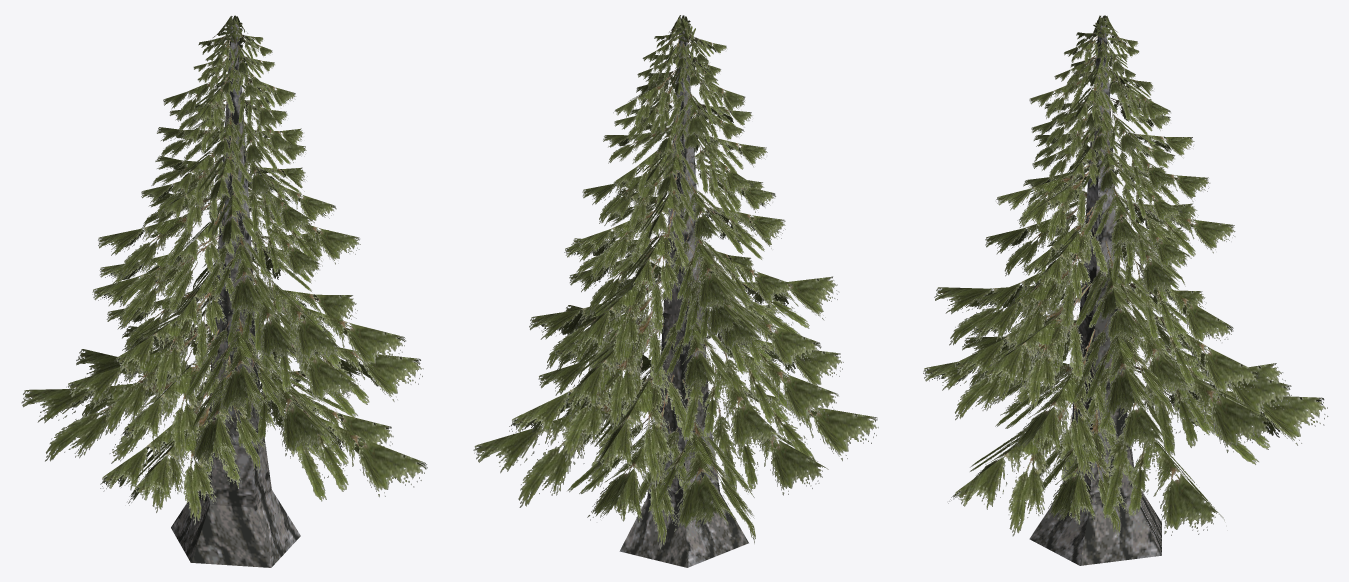
Rendered from pineTree.fbx.
3 views of the same model, side by side, from view 1: azimuth 30°, elevation 25°; view 2: azimuth 150°, elevation 25°; view 3: azimuth 270°, elevation 25° (orthographic).
Parts seen in each view (by area): view 1: pineTree2; view 2: pineTree2; view 3: pineTree2.
Boxes of the visible parts, bbox=[...] form: pineTree2: bbox=[21, 15, 427, 567]; pineTree2: bbox=[473, 15, 878, 567]; pineTree2: bbox=[923, 15, 1328, 565].
Bounding box in the file's own units: 658 × 750 × 1034.
Materials: 2 (2 with a texture image).
